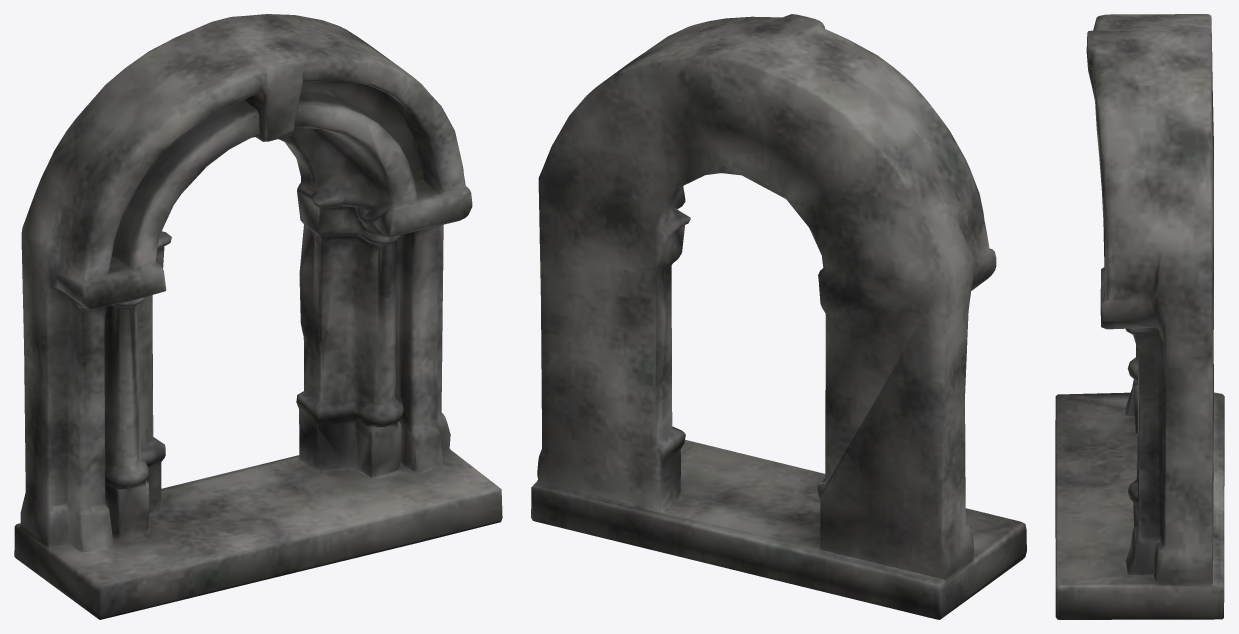
Rendered from plain-granite-arched-doorway-v001.glb.
3 views of the same model, side by side, from view 1: azimuth 30°, elevation 25°; view 2: azimuth 150°, elevation 25°; view 3: azimuth 270°, elevation 25° (orthographic). The views are drawn at different scales.
Visible parts, largest first — view 1: plain-granite-arched-doorway; view 2: plain-granite-arched-doorway; view 3: plain-granite-arched-doorway.
Part boxes in pixels (x1,y1,x2,y2): plain-granite-arched-doorway: [14, 14, 502, 619]; plain-granite-arched-doorway: [531, 14, 1026, 619]; plain-granite-arched-doorway: [1055, 14, 1224, 619].
Bounding box in the file's own units: 2.35 × 2.76 × 0.8657.
Materials: 1 (1 with a texture image).
